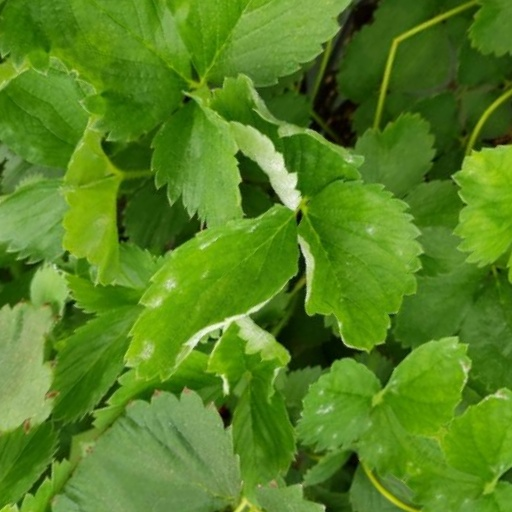Powdery Mildew Leaf: (212, 84, 325, 315), (100, 241, 252, 392), (221, 313, 394, 402), (349, 129, 448, 236), (0, 209, 77, 322), (63, 135, 137, 239), (150, 123, 237, 205), (0, 155, 75, 225)
